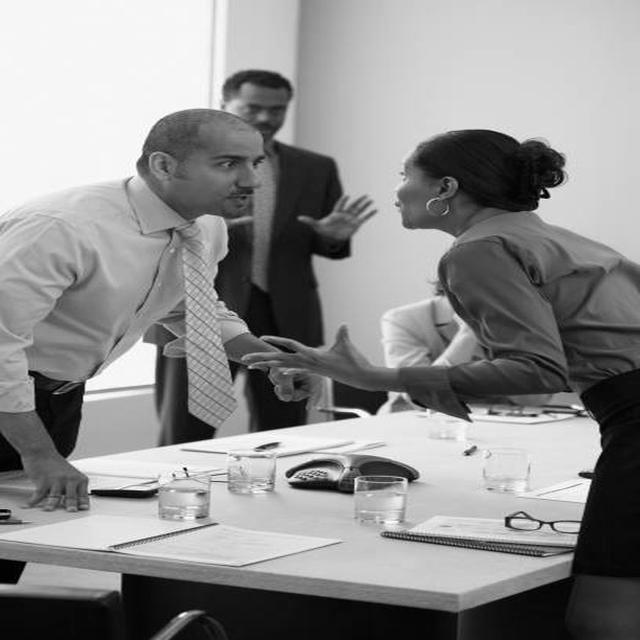Angry: (175, 126, 266, 220)
